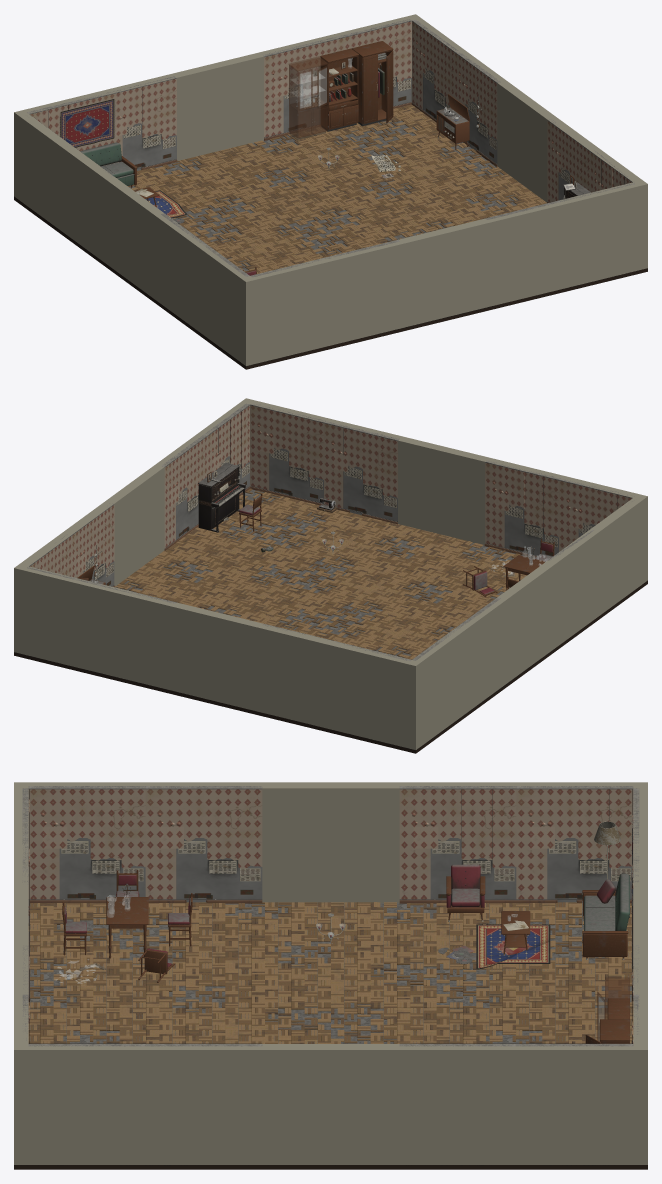
Rendered from room_living_room_decorated.glb.
The picture shows the model from 3 angles, top to bottom: view 1: azimuth 30°, elevation 25°; view 2: azimuth 150°, elevation 25°; view 3: azimuth 270°, elevation 25°; orthographic projection. The views are drawn at different scales.
Parts seen in each view (by area): view 1: Wall_S_A, Wall_S_B, Wall_W_B, Wall_W_A, Plug_S, Plug_N, NoCol_Wallpaper_N1, NoCol_Wallpaper_N2, Plug_W, Plug_E, NoCol_Wallpaper_E3, NoCol_Wallpaper_E2 (+40 smaller); view 2: Wall_N_A, Wall_N_B, Wall_W_A, Wall_W_B, Plug_N, Plug_S, NoCol_Wallpaper_S2, NoCol_Wallpaper_S3, NoCol_Wallpaper_S1, Plug_W, Plug_E, NoCol_Wallpaper_E1 (+35 smaller); view 3: Wall_E_B, Wall_E_A, Plug_W, Plug_E, NoCol_Wallpaper_W1, NoCol_Wallpaper_W0, NoCol_Wallpaper_W2, NoCol_Wallpaper_W3, NoCol_FloorTile_24, NoCol_FloorTile_23, NoCol_FloorTile_21, NoCol_FloorTile_22 (+43 smaller).
Part boxes in pixels (bbox=[...]): Wall_S_A: bbox=[240, 240, 403, 365]; Wall_S_B: bbox=[487, 180, 647, 306]; Wall_W_B: bbox=[19, 114, 113, 262]; Wall_W_A: bbox=[155, 214, 245, 361]; Plug_S: bbox=[403, 233, 490, 327]; Plug_N: bbox=[177, 67, 263, 160]; NoCol_Wallpaper_N1: bbox=[101, 76, 176, 170]; NoCol_Wallpaper_N2: bbox=[263, 37, 337, 137]; Plug_W: bbox=[105, 189, 155, 299]; Plug_E: bbox=[497, 93, 547, 202]; NoCol_Wallpaper_E3: bbox=[411, 19, 458, 119]; NoCol_Wallpaper_E2: bbox=[454, 51, 500, 163]; Wall_N_A: bbox=[258, 624, 421, 749]; Wall_N_B: bbox=[14, 564, 175, 690]; Wall_W_A: bbox=[548, 498, 642, 646]; Wall_W_B: bbox=[413, 598, 506, 745]; Plug_N: bbox=[171, 617, 258, 711]; Plug_S: bbox=[398, 451, 484, 545]; NoCol_Wallpaper_S2: bbox=[324, 421, 399, 521]; NoCol_Wallpaper_S3: bbox=[250, 403, 325, 503]; NoCol_Wallpaper_S1: bbox=[485, 460, 560, 556]; Plug_W: bbox=[506, 573, 556, 683]; Plug_E: bbox=[114, 477, 164, 586]; NoCol_Wallpaper_E1: bbox=[162, 435, 207, 547]; Wall_E_B: bbox=[399, 1044, 633, 1164]; Wall_E_A: bbox=[28, 1044, 262, 1164]; Plug_W: bbox=[262, 802, 399, 903]; Plug_E: bbox=[262, 1064, 399, 1164]; NoCol_Wallpaper_W1: bbox=[145, 786, 262, 902]; NoCol_Wallpaper_W0: bbox=[28, 786, 145, 899]; NoCol_Wallpaper_W2: bbox=[399, 786, 516, 899]; NoCol_Wallpaper_W3: bbox=[516, 786, 633, 902]; NoCol_FloorTile_24: bbox=[436, 985, 542, 1030]; NoCol_FloorTile_23: bbox=[331, 985, 436, 1030]; NoCol_FloorTile_21: bbox=[119, 985, 225, 1030]; NoCol_FloorTile_22: bbox=[225, 985, 330, 1030].
Size of the model in its own units: 12 by 2.5 by 12.
38 materials, 25 textured.
